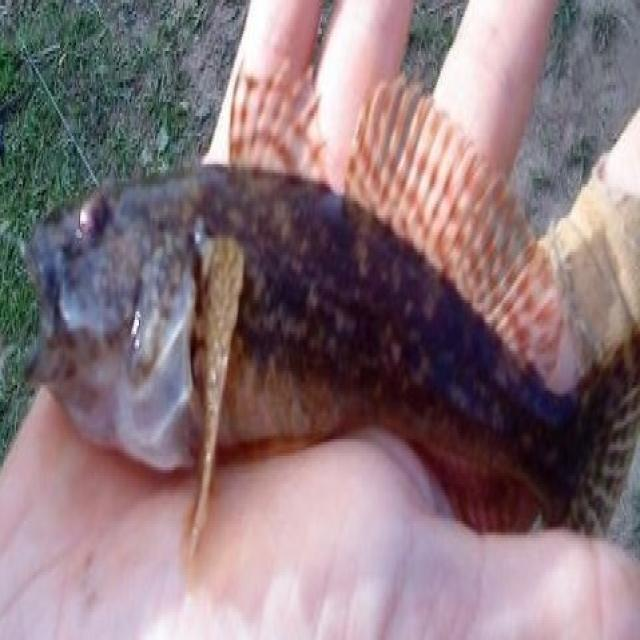Goby: (24, 80, 628, 593)
